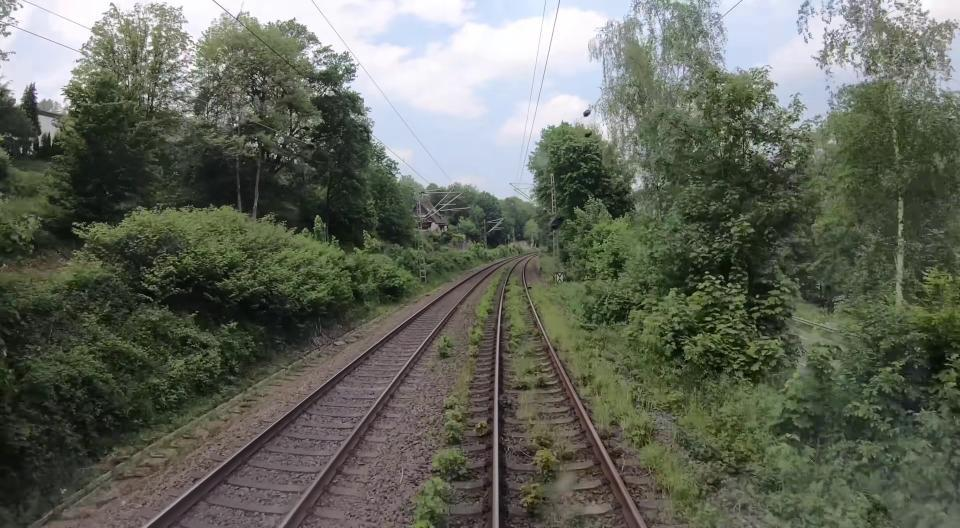Plant: (530, 282, 697, 506), (506, 277, 538, 390), (470, 268, 509, 344), (443, 358, 476, 445), (528, 424, 572, 482), (409, 477, 451, 528), (676, 494, 734, 528), (432, 448, 468, 480), (514, 389, 541, 423), (519, 483, 544, 513), (438, 336, 454, 358), (474, 422, 489, 436), (468, 345, 479, 359)
